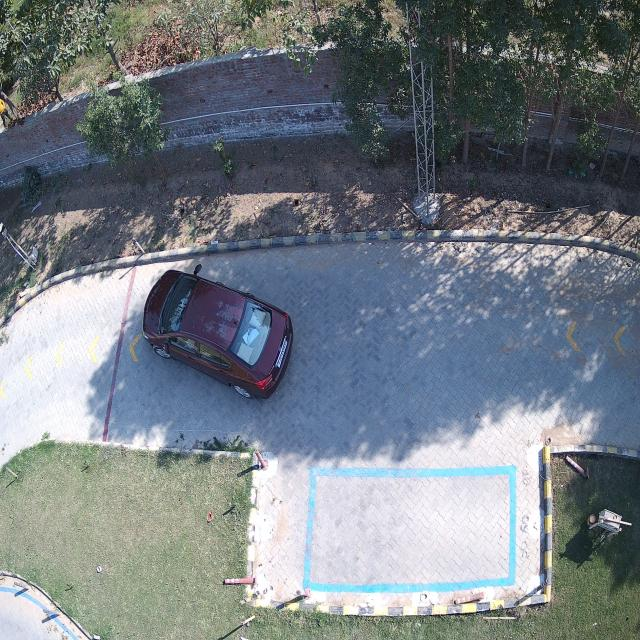car: (141, 271, 294, 402)
